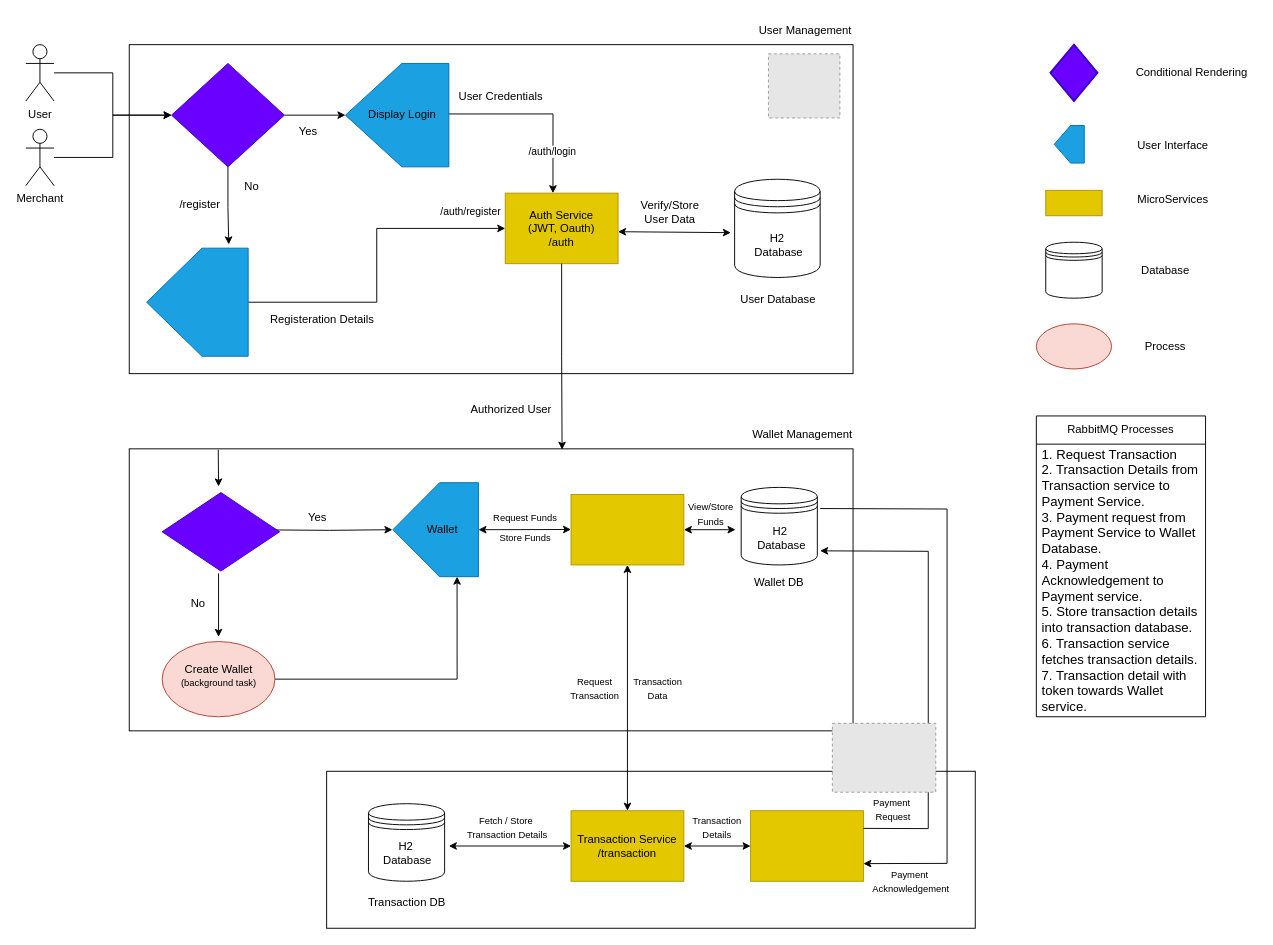
This 1273x945 diagram has some shape labels left out. Grey dashed boxes stand in for pictures. The shapes that lost their labels are listed below. From the top down, each one's centre as x and y in pixels, then its label:
At [227,115]: "Registered?".
At [197,301]: "Display Registeration".
At [220,531]: "Wallet Exists?".
At [627,529]: "Wallet Service /wallet".
At [806,845]: "Payment Service /payment".
